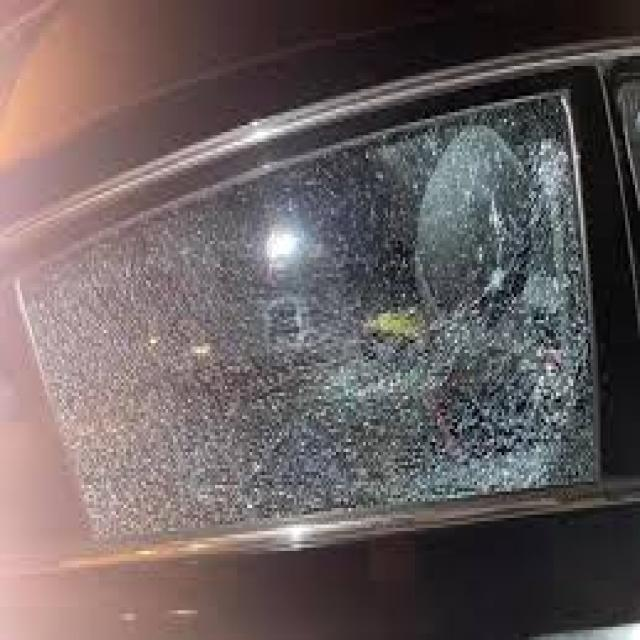damaged-window: (7, 85, 627, 517)
